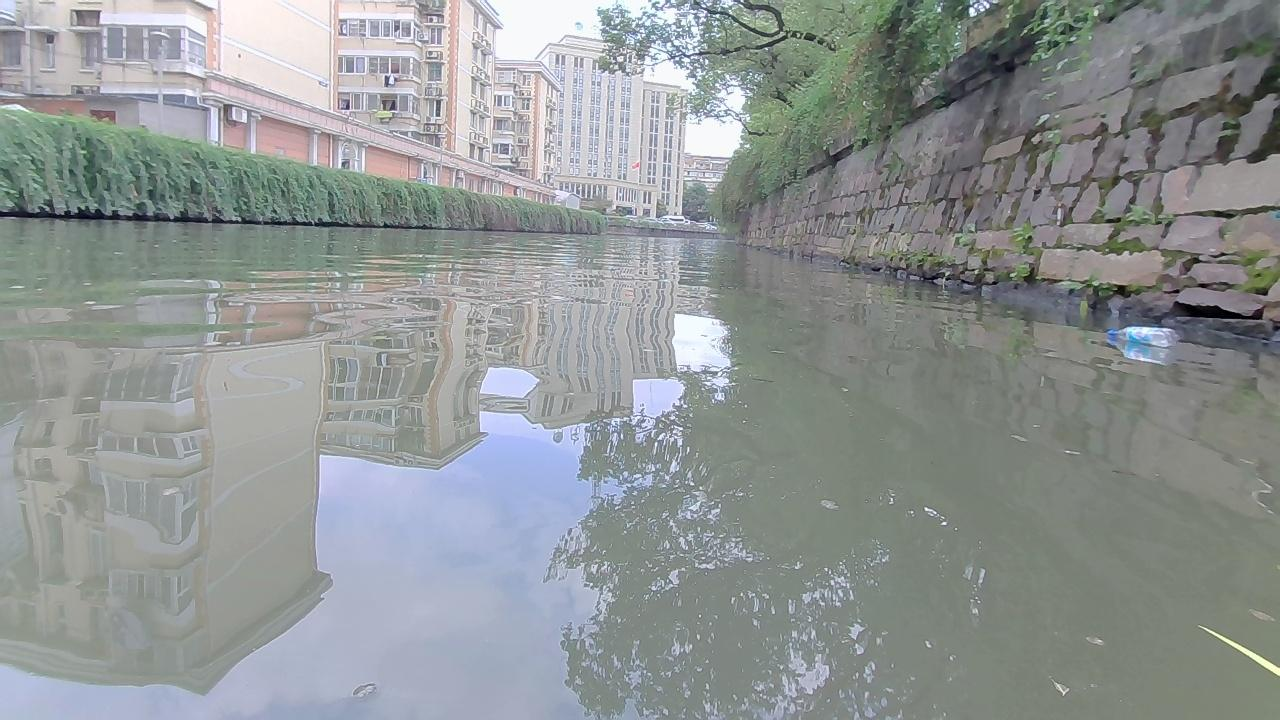bottle: (1106, 325, 1180, 346)
